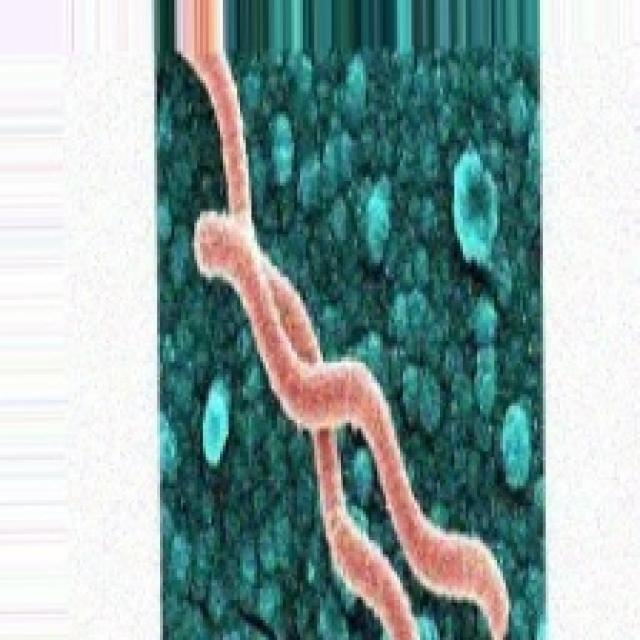Spiral_bacteria: (160, 0, 540, 637)
